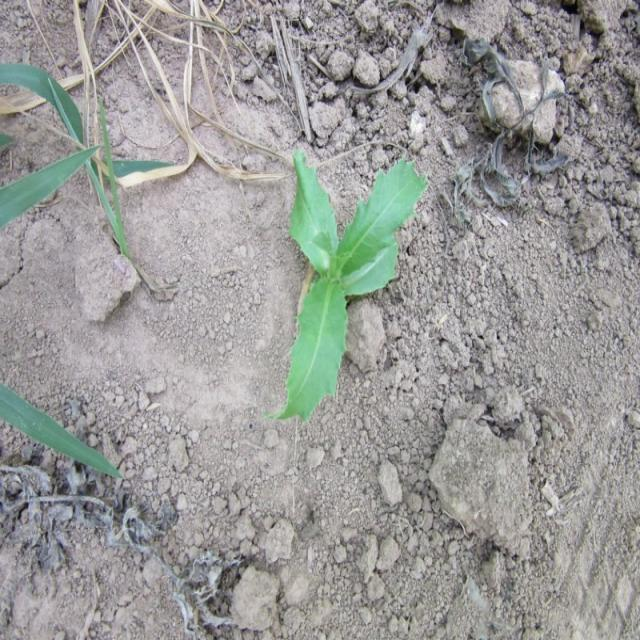cs: (278, 138, 428, 430)
